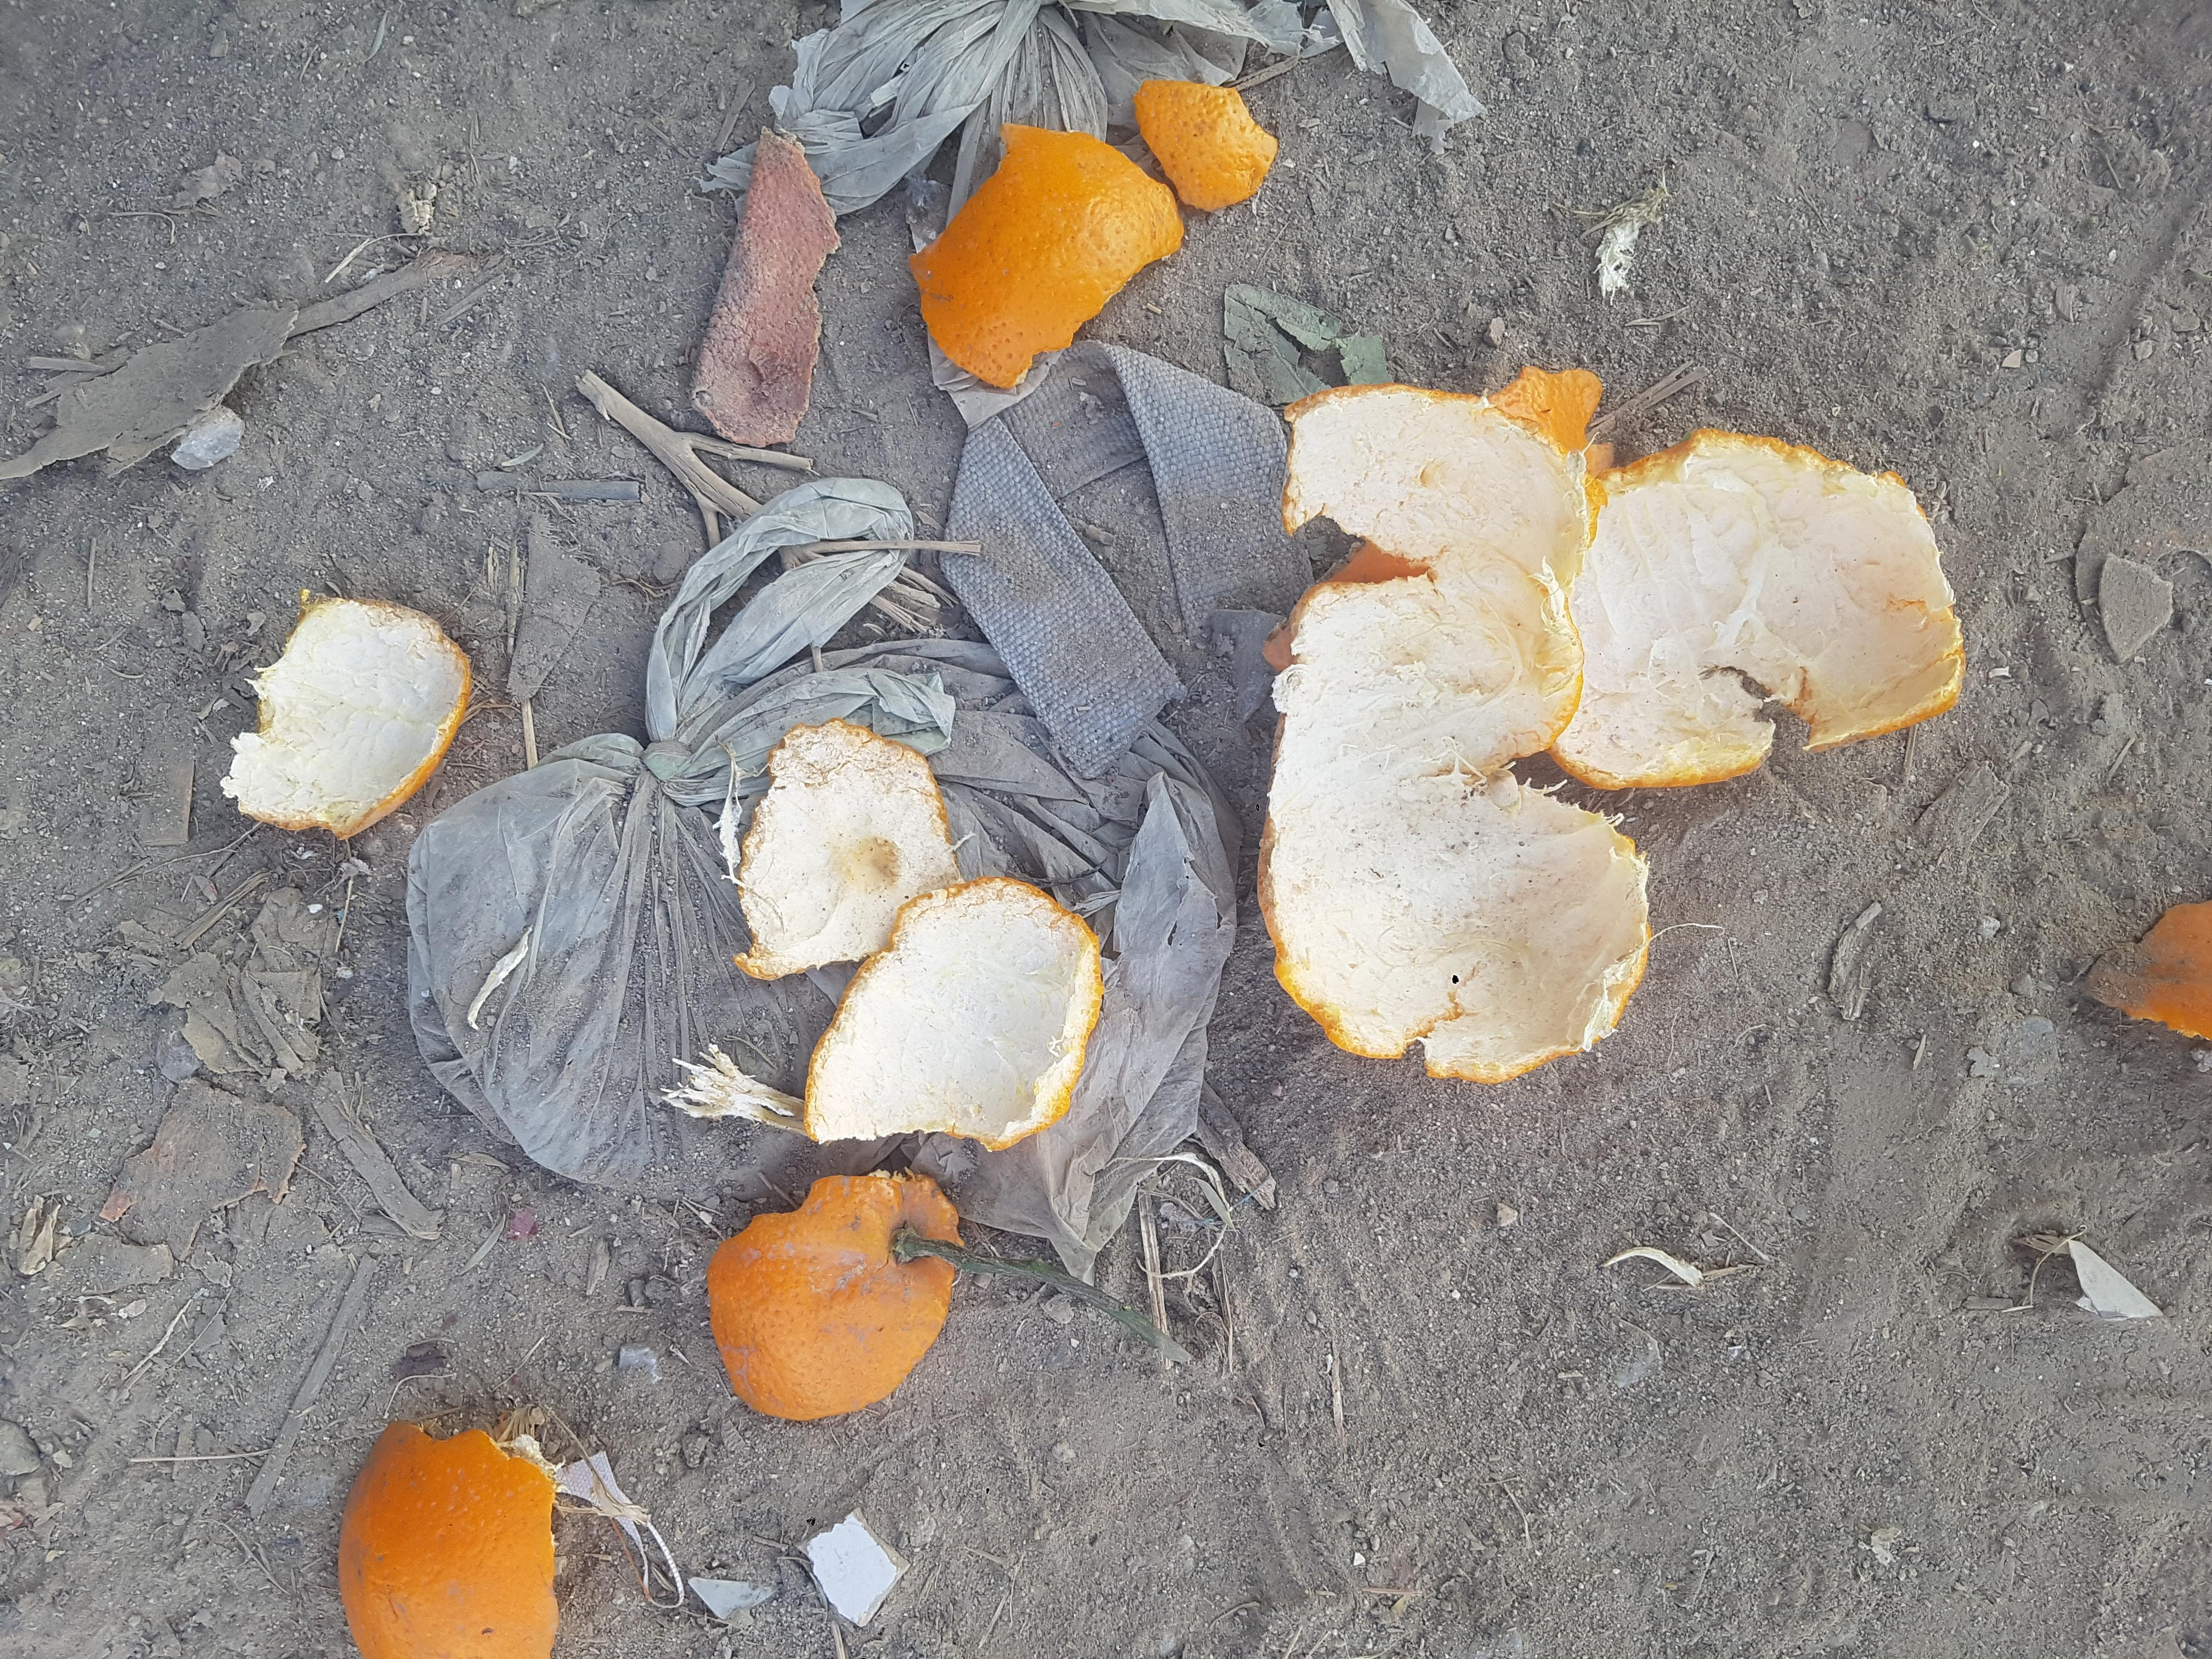organic: (754, 939, 1731, 1485), (665, 586, 1035, 826), (1689, 676, 2052, 892), (1083, 153, 1426, 359), (307, 528, 653, 725), (0, 239, 336, 432), (900, 544, 1258, 714), (1916, 843, 2116, 964), (806, 1589, 1017, 1659)
